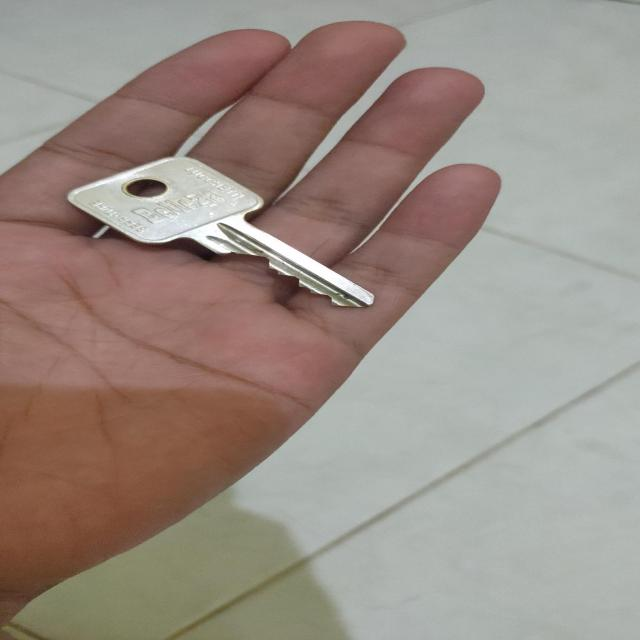kunci_kos: (67, 150, 387, 312)
